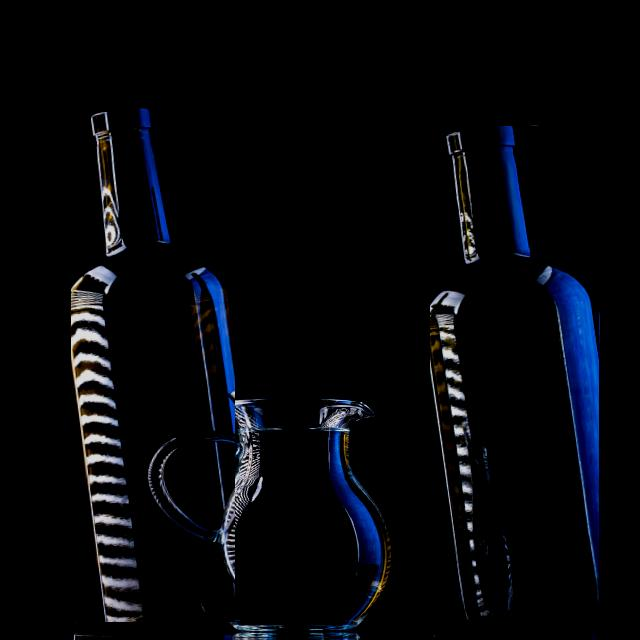Bottle: (72, 109, 234, 622), (431, 126, 599, 620)
